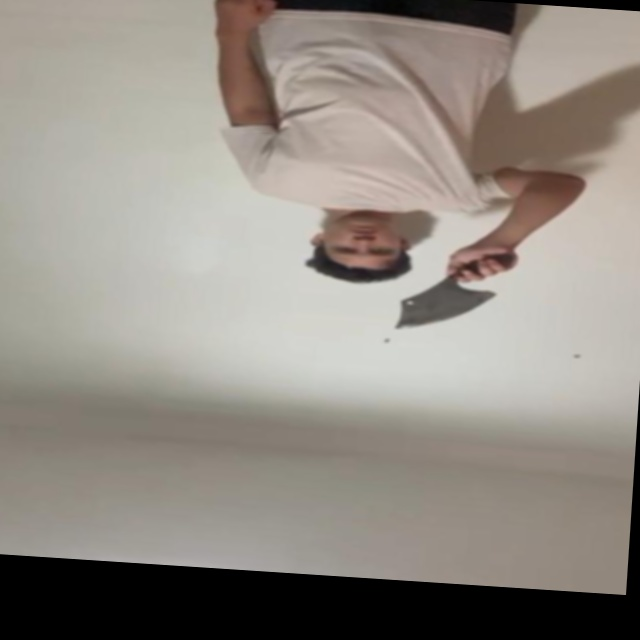Sharp-Object: (394, 284, 489, 333)
